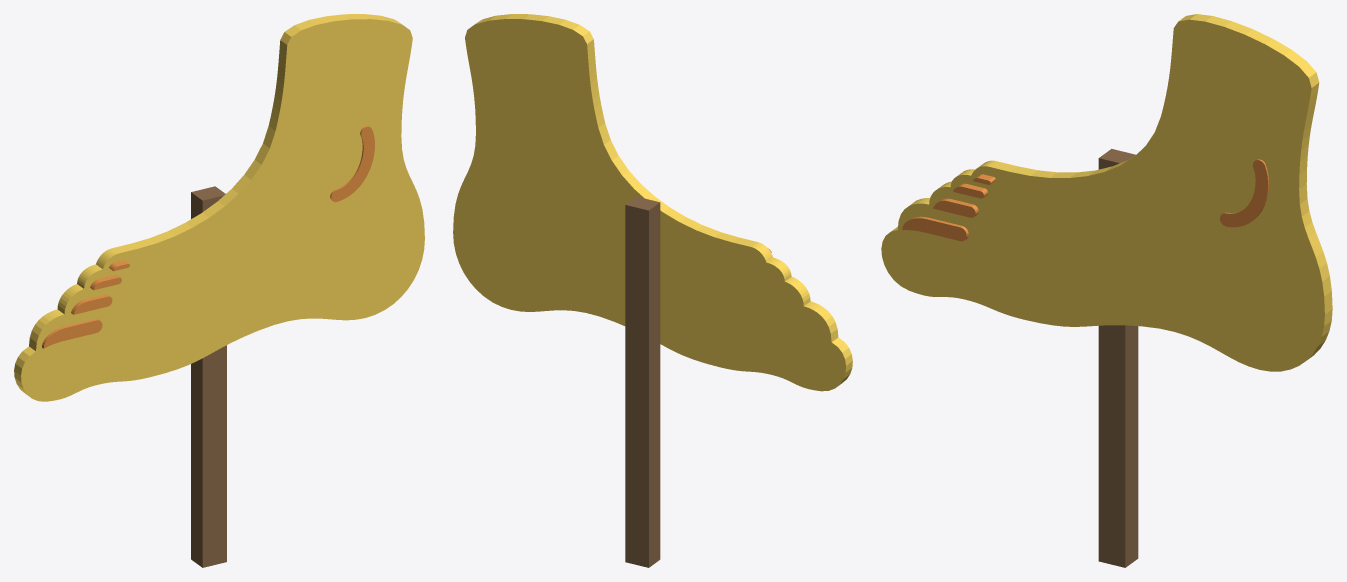
The model's file is pied.glb.
3 renders of one model, left to right at view 1: azimuth 30°, elevation 25°; view 2: azimuth 150°, elevation 25°; view 3: azimuth 330°, elevation 25°, orthographic. The views are drawn at different scales.
Bounding box in the file's own units: 1 × 1.24 × 0.105.
